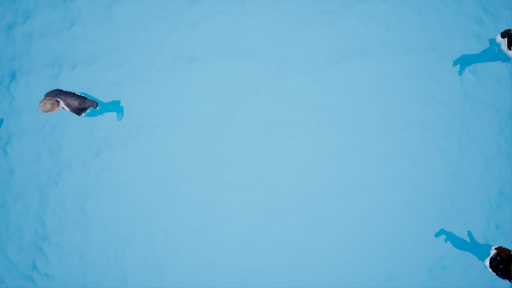person: (420, 219, 512, 287), (43, 80, 128, 134), (453, 19, 512, 68)
